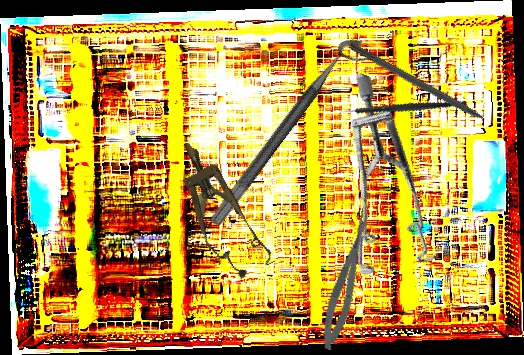Chopper: (332, 67, 467, 154)
Fixation Ring: (208, 30, 377, 240)
Hook Surgical: (347, 41, 505, 135)
Micro Scissor: (315, 206, 380, 353)
Speculum: (284, 71, 492, 298), (162, 131, 277, 286)
